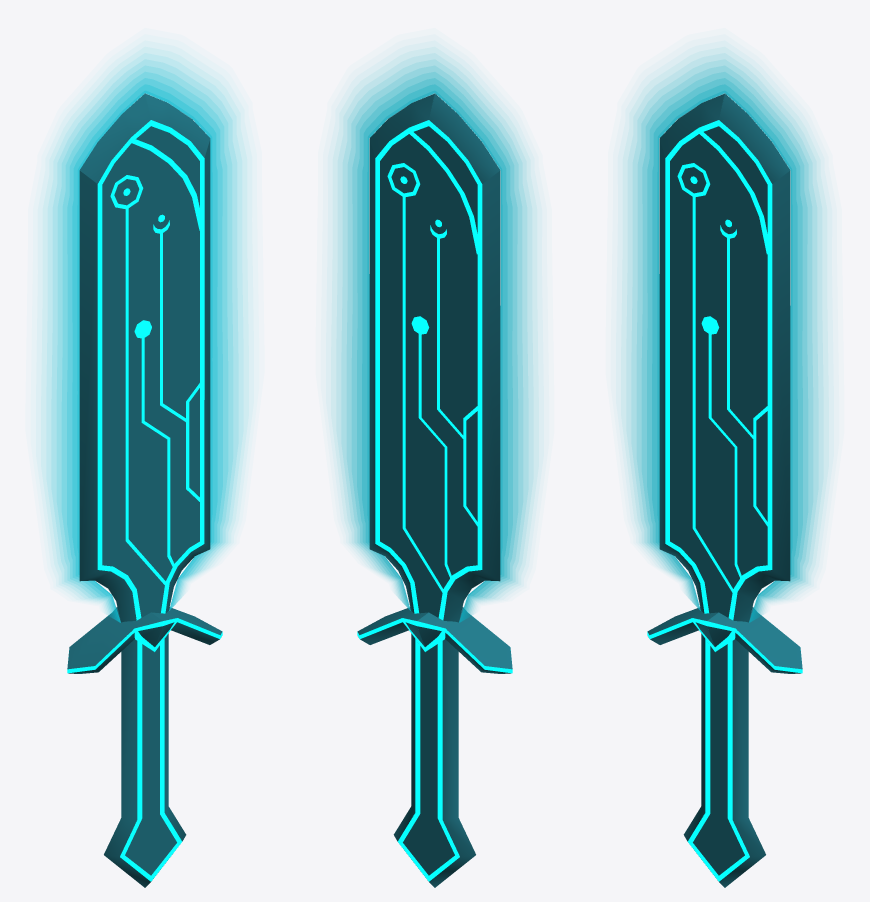
File: 11-Neon.gltf
The picture shows the model from 3 angles, left to right: view 1: azimuth 30°, elevation 25°; view 2: azimuth 150°, elevation 25°; view 3: azimuth 330°, elevation 25°; orthographic projection.
Parts seen in each view (by area): view 1: a, b; view 2: b, a; view 3: a, b.
Boxes of the visible parts, x1,y1,x2,y2 form: a: (41, 47, 210, 887); b: (104, 47, 248, 853); b: (331, 47, 500, 887); a: (370, 47, 538, 854); a: (621, 47, 790, 887); b: (660, 47, 828, 854).
Size of the model in its own units: 0.4748 by 1.51 by 0.1131.
Materials: 3 (1 with a texture image).
